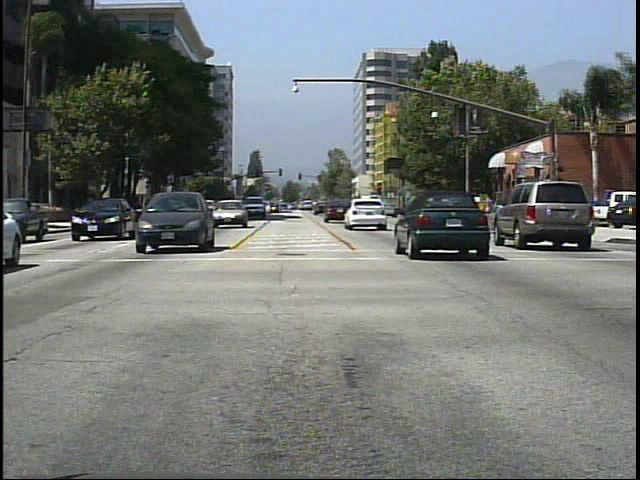person: (484, 189, 502, 225), (516, 195, 534, 230)
